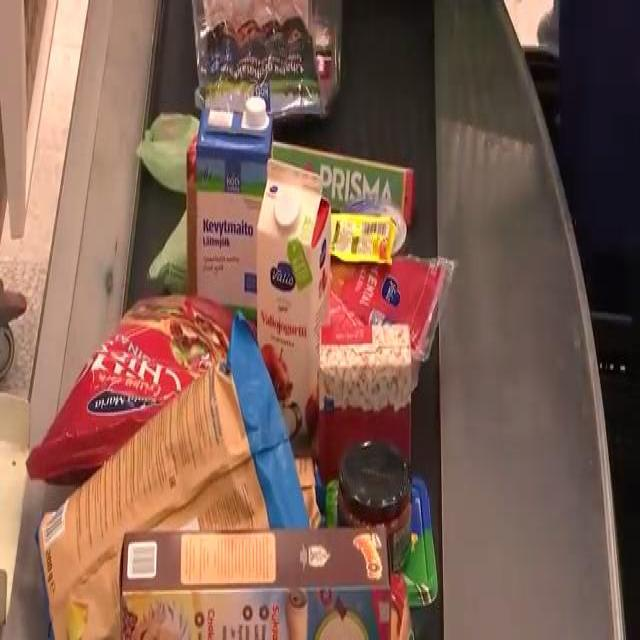beverage: (258, 159, 332, 442), (200, 98, 276, 327)
food-box: (41, 339, 312, 637), (31, 289, 246, 506), (120, 530, 394, 640), (319, 235, 437, 369), (320, 328, 412, 486), (195, 0, 325, 105)
